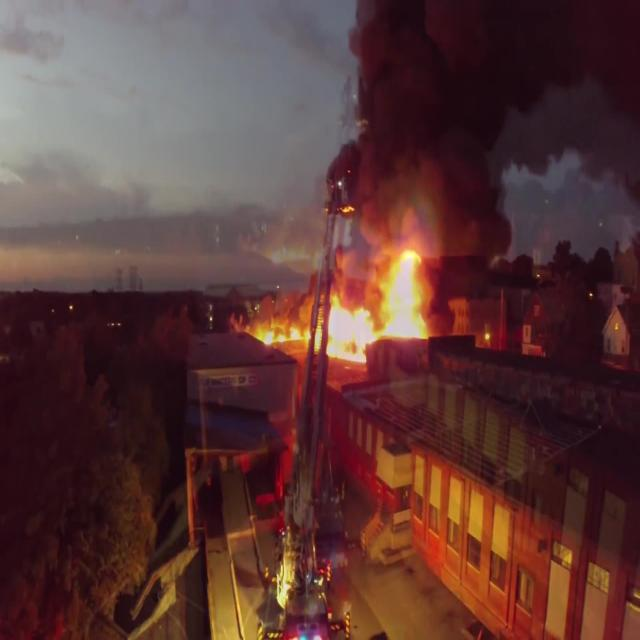Fire: (319, 258, 429, 346)
Smoke: (348, 0, 638, 262)
